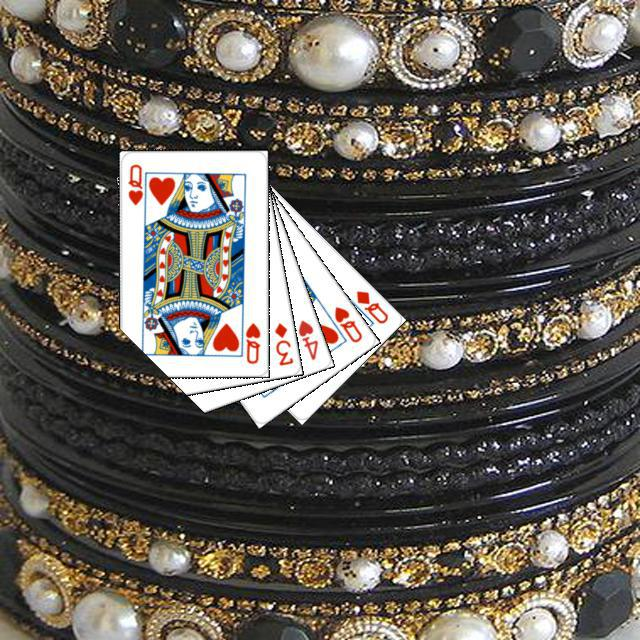3d: (270, 318, 295, 367)
4h: (293, 315, 320, 362)
Qd: (351, 285, 390, 325)
Qh: (329, 302, 364, 344), (123, 160, 148, 212), (240, 318, 262, 365)
